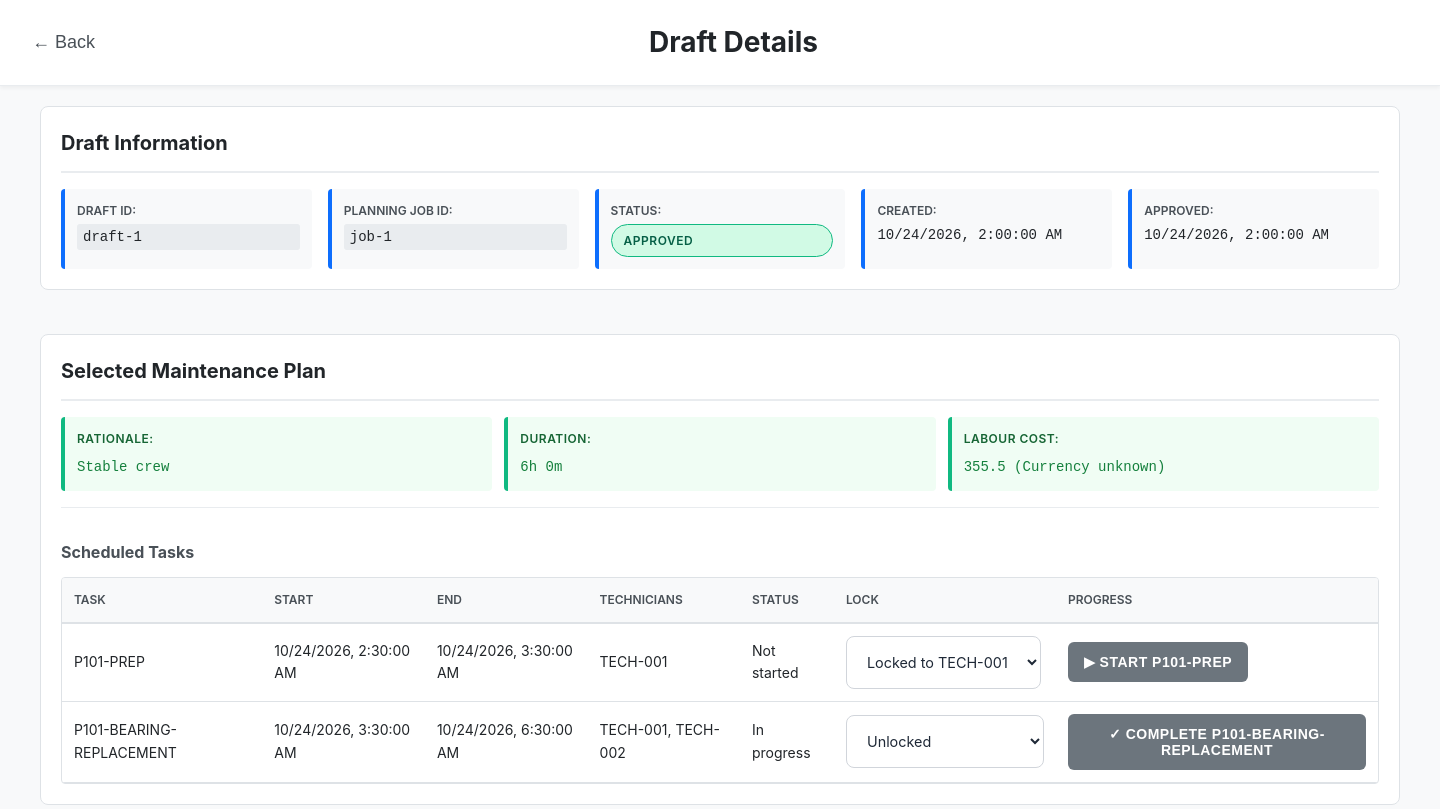
DraftDetailScreen draft management › offers only the next forward transition and refreshes progress after it succeeds
Expected: the button "✓ Complete P101-BEARING-REPLACEMENT" is shown, [1068,714,1366,770]
What coordinates should you click on to do the following:
click the button "▶ Start P101-PREP"
I would click on:
 (1158, 662)
Its box is [1068,642,1248,682].
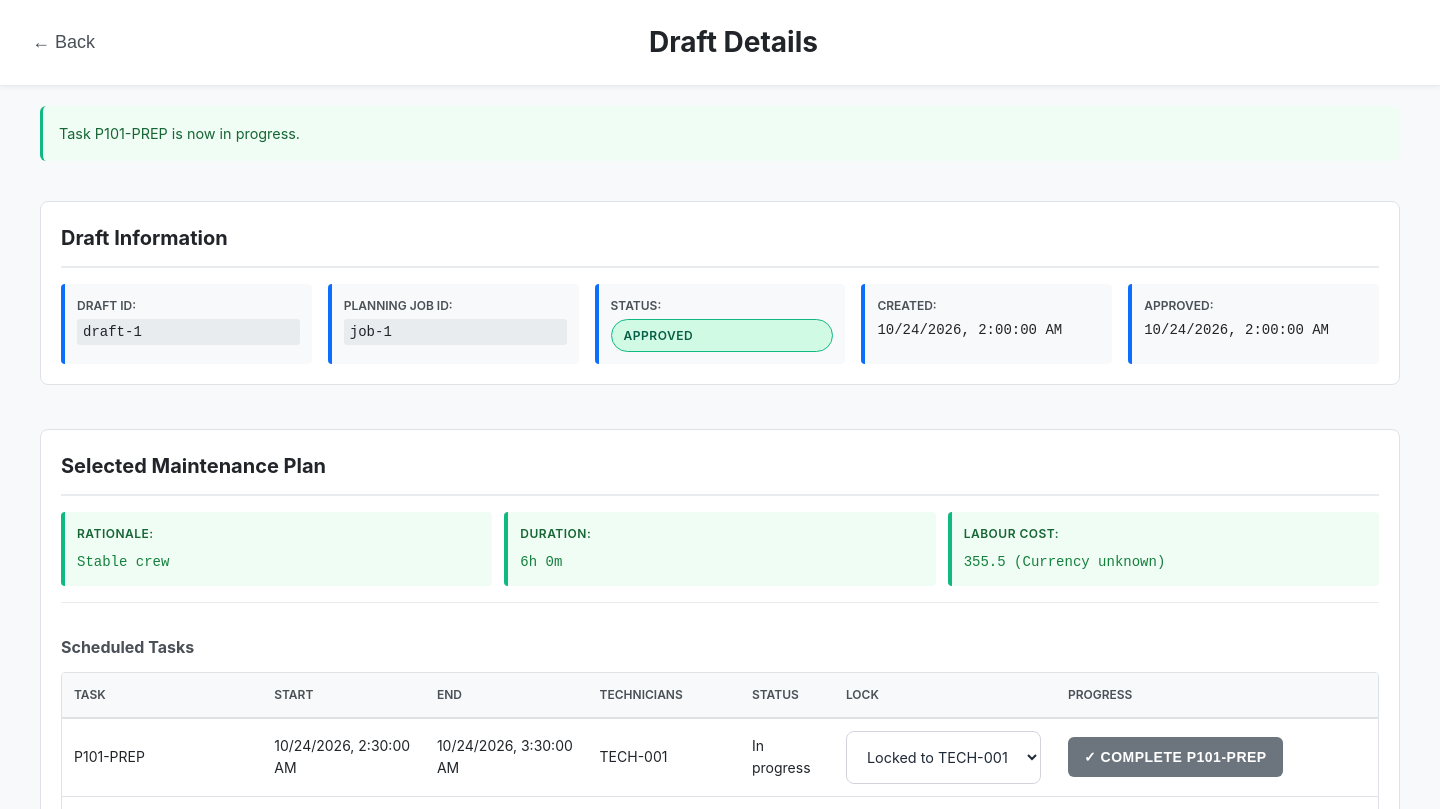
Expected: the message reads "Task P101-PREP is now in progress.", [59,125,300,142]
Expected: the cell with test id "task-status-P101-PREP" reads "In progress", [752,737,811,776]
